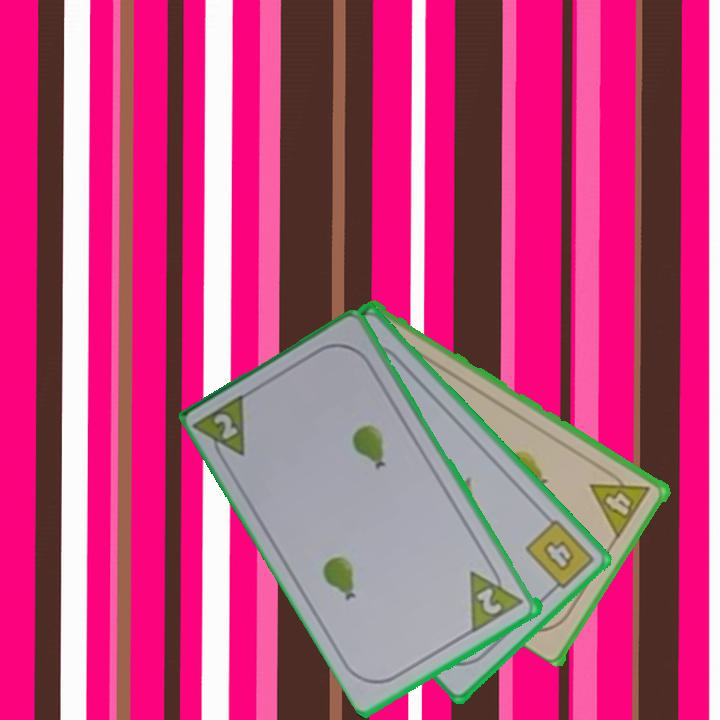2p: (473, 584, 506, 618), (210, 409, 242, 443)
4b: (522, 515, 597, 598)
4p: (587, 463, 654, 540)
